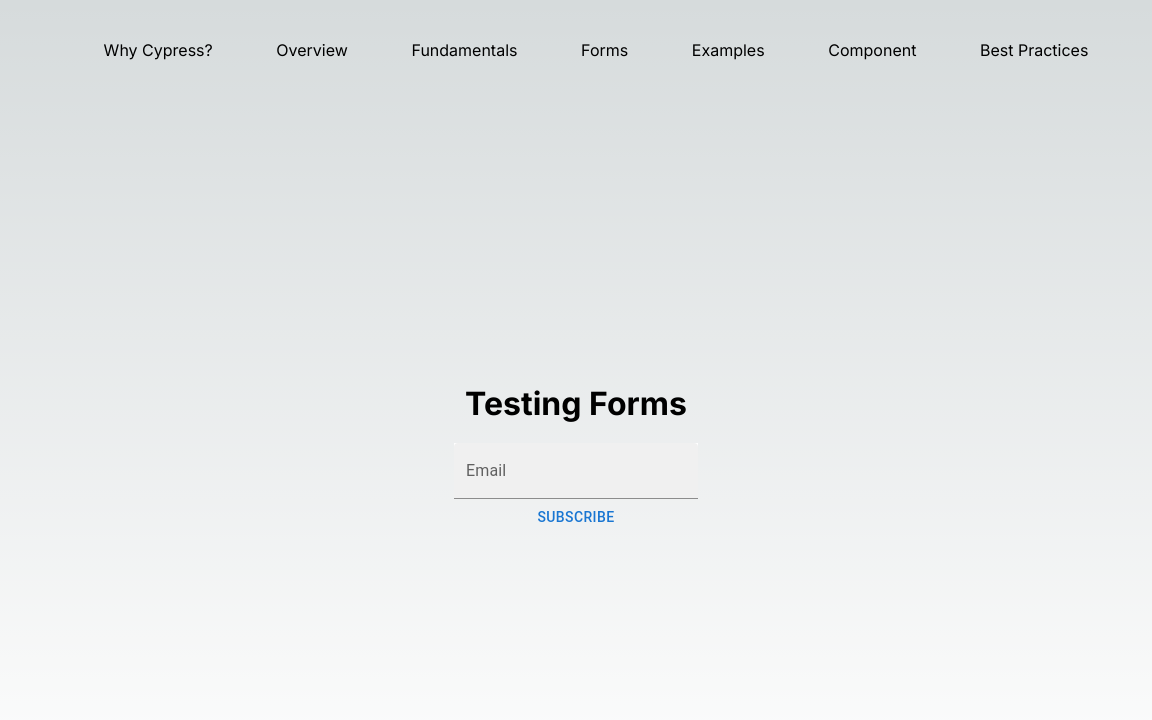
Test: Form tests › Test subscribe form
Expected: the heading "Testing Forms" is shown, [465,384,687,423]
Type "timaz.dev@gmail.com" into the field labelled "Email" at point(576, 471), box [454,443,698,499]
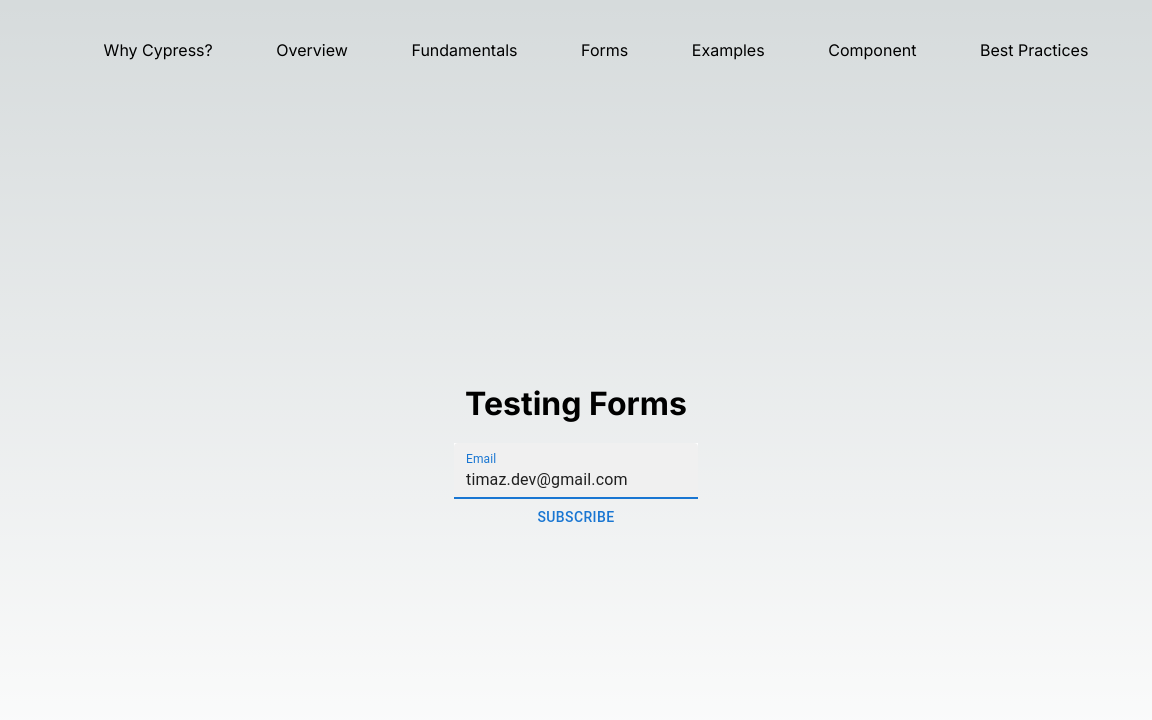
Click the button with test id "subscribe-button" at point(577, 518), box [530,499,623,536]
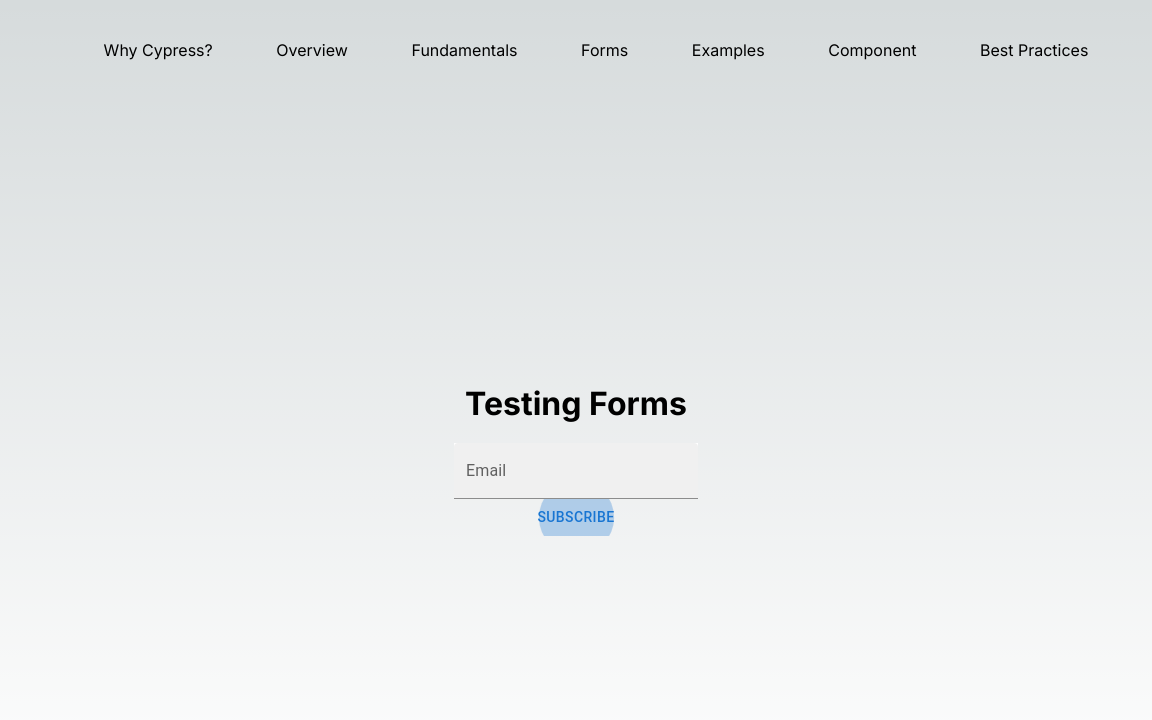
Testing unhappy path Wrong email
Type "timaz.dev@mail.io" into the field labelled "Email" at point(576, 471), box [454,443,698,499]
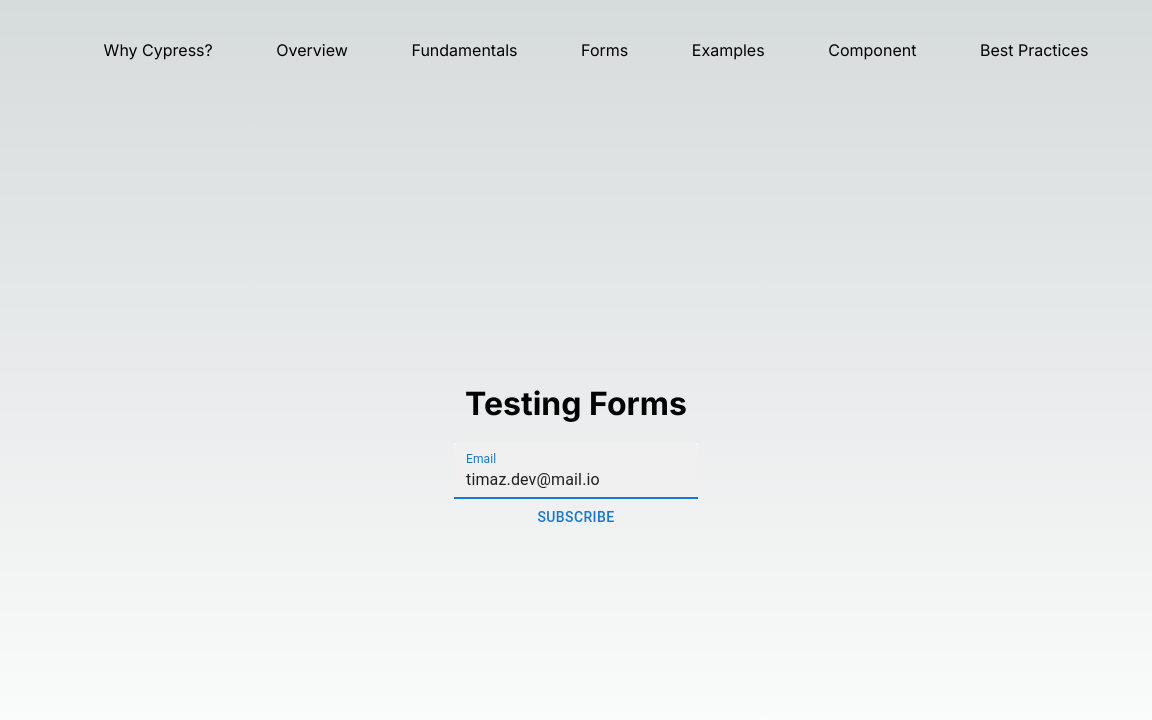
Click the button with test id "subscribe-button" at point(577, 518), box [530,499,623,536]
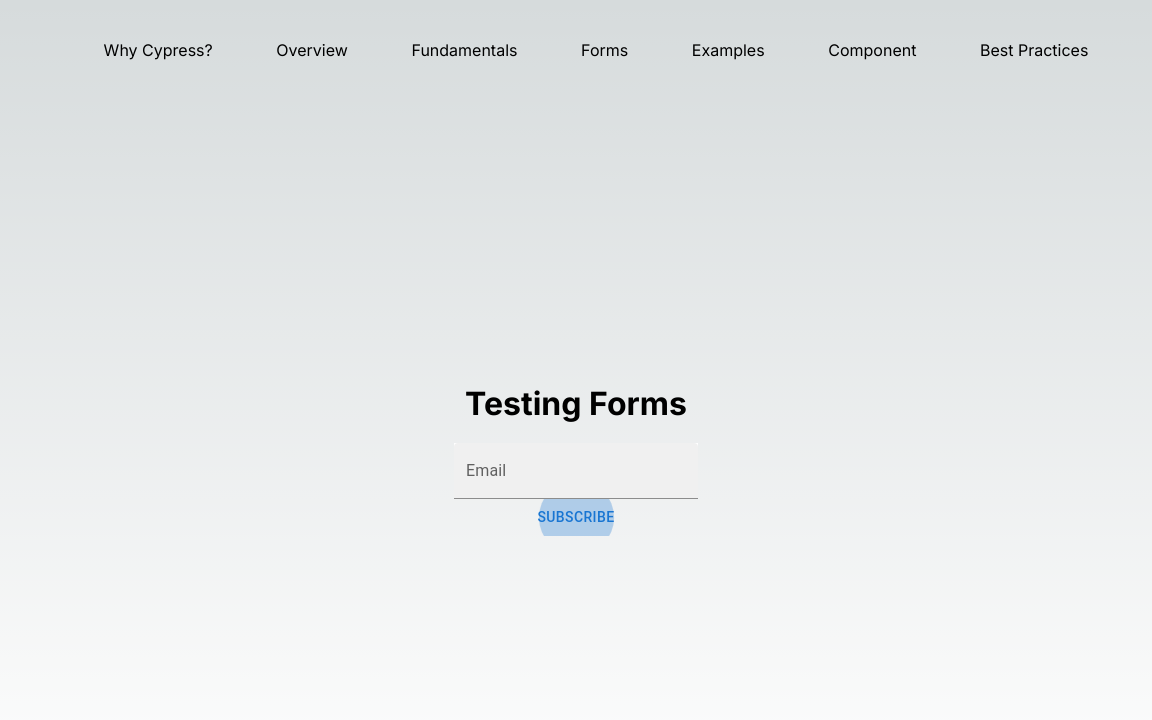
Expected: the text "fail!" is not shown
Click the button with test id "subscribe-button" at point(577, 518), box [530,499,623,536]
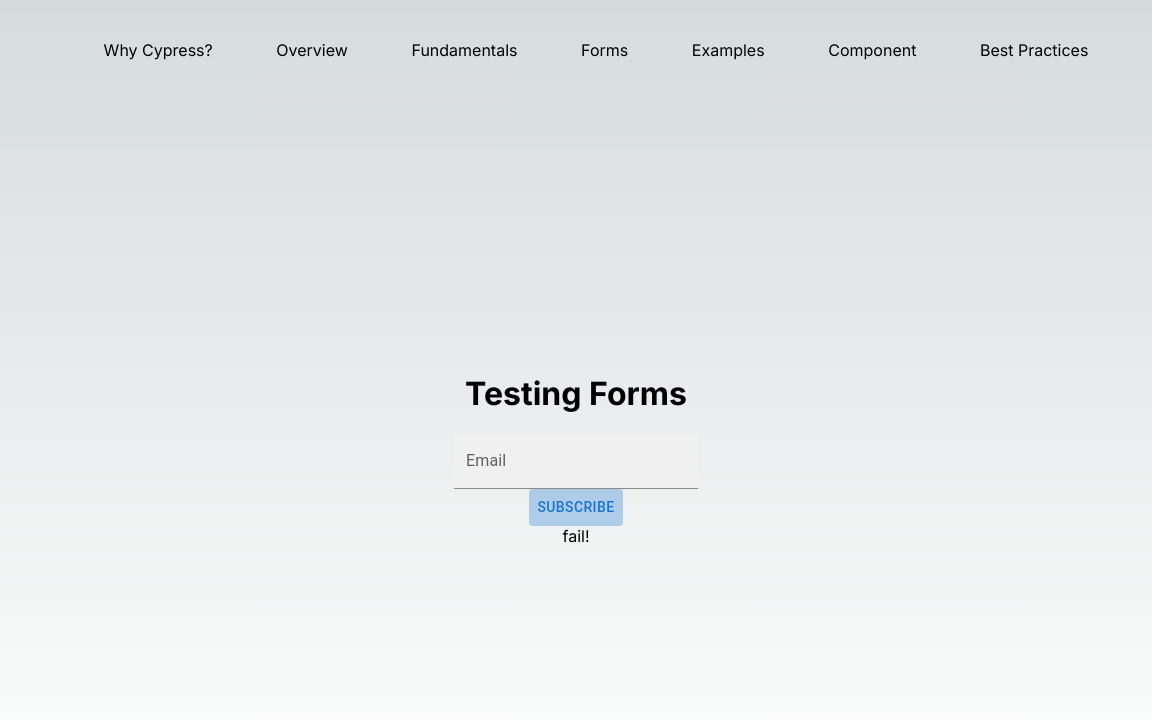
Expected: the text "fail!" is shown, [562,526,590,546]
